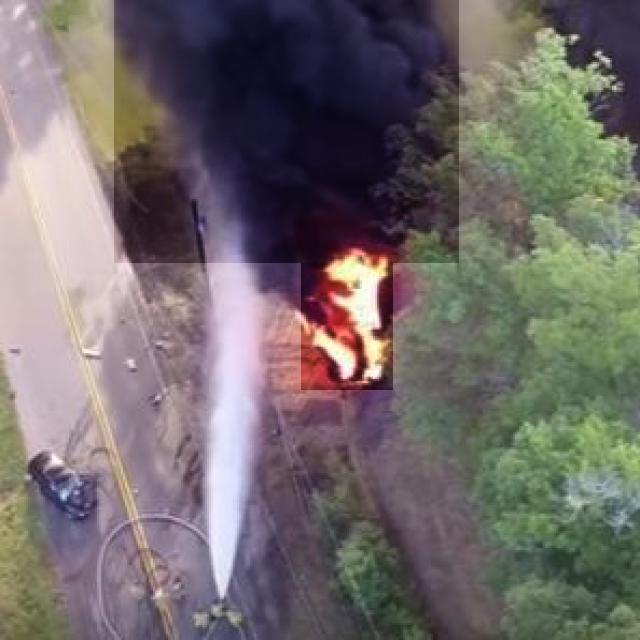Fire: (301, 244, 393, 390)
Smoke: (114, 0, 459, 263)
